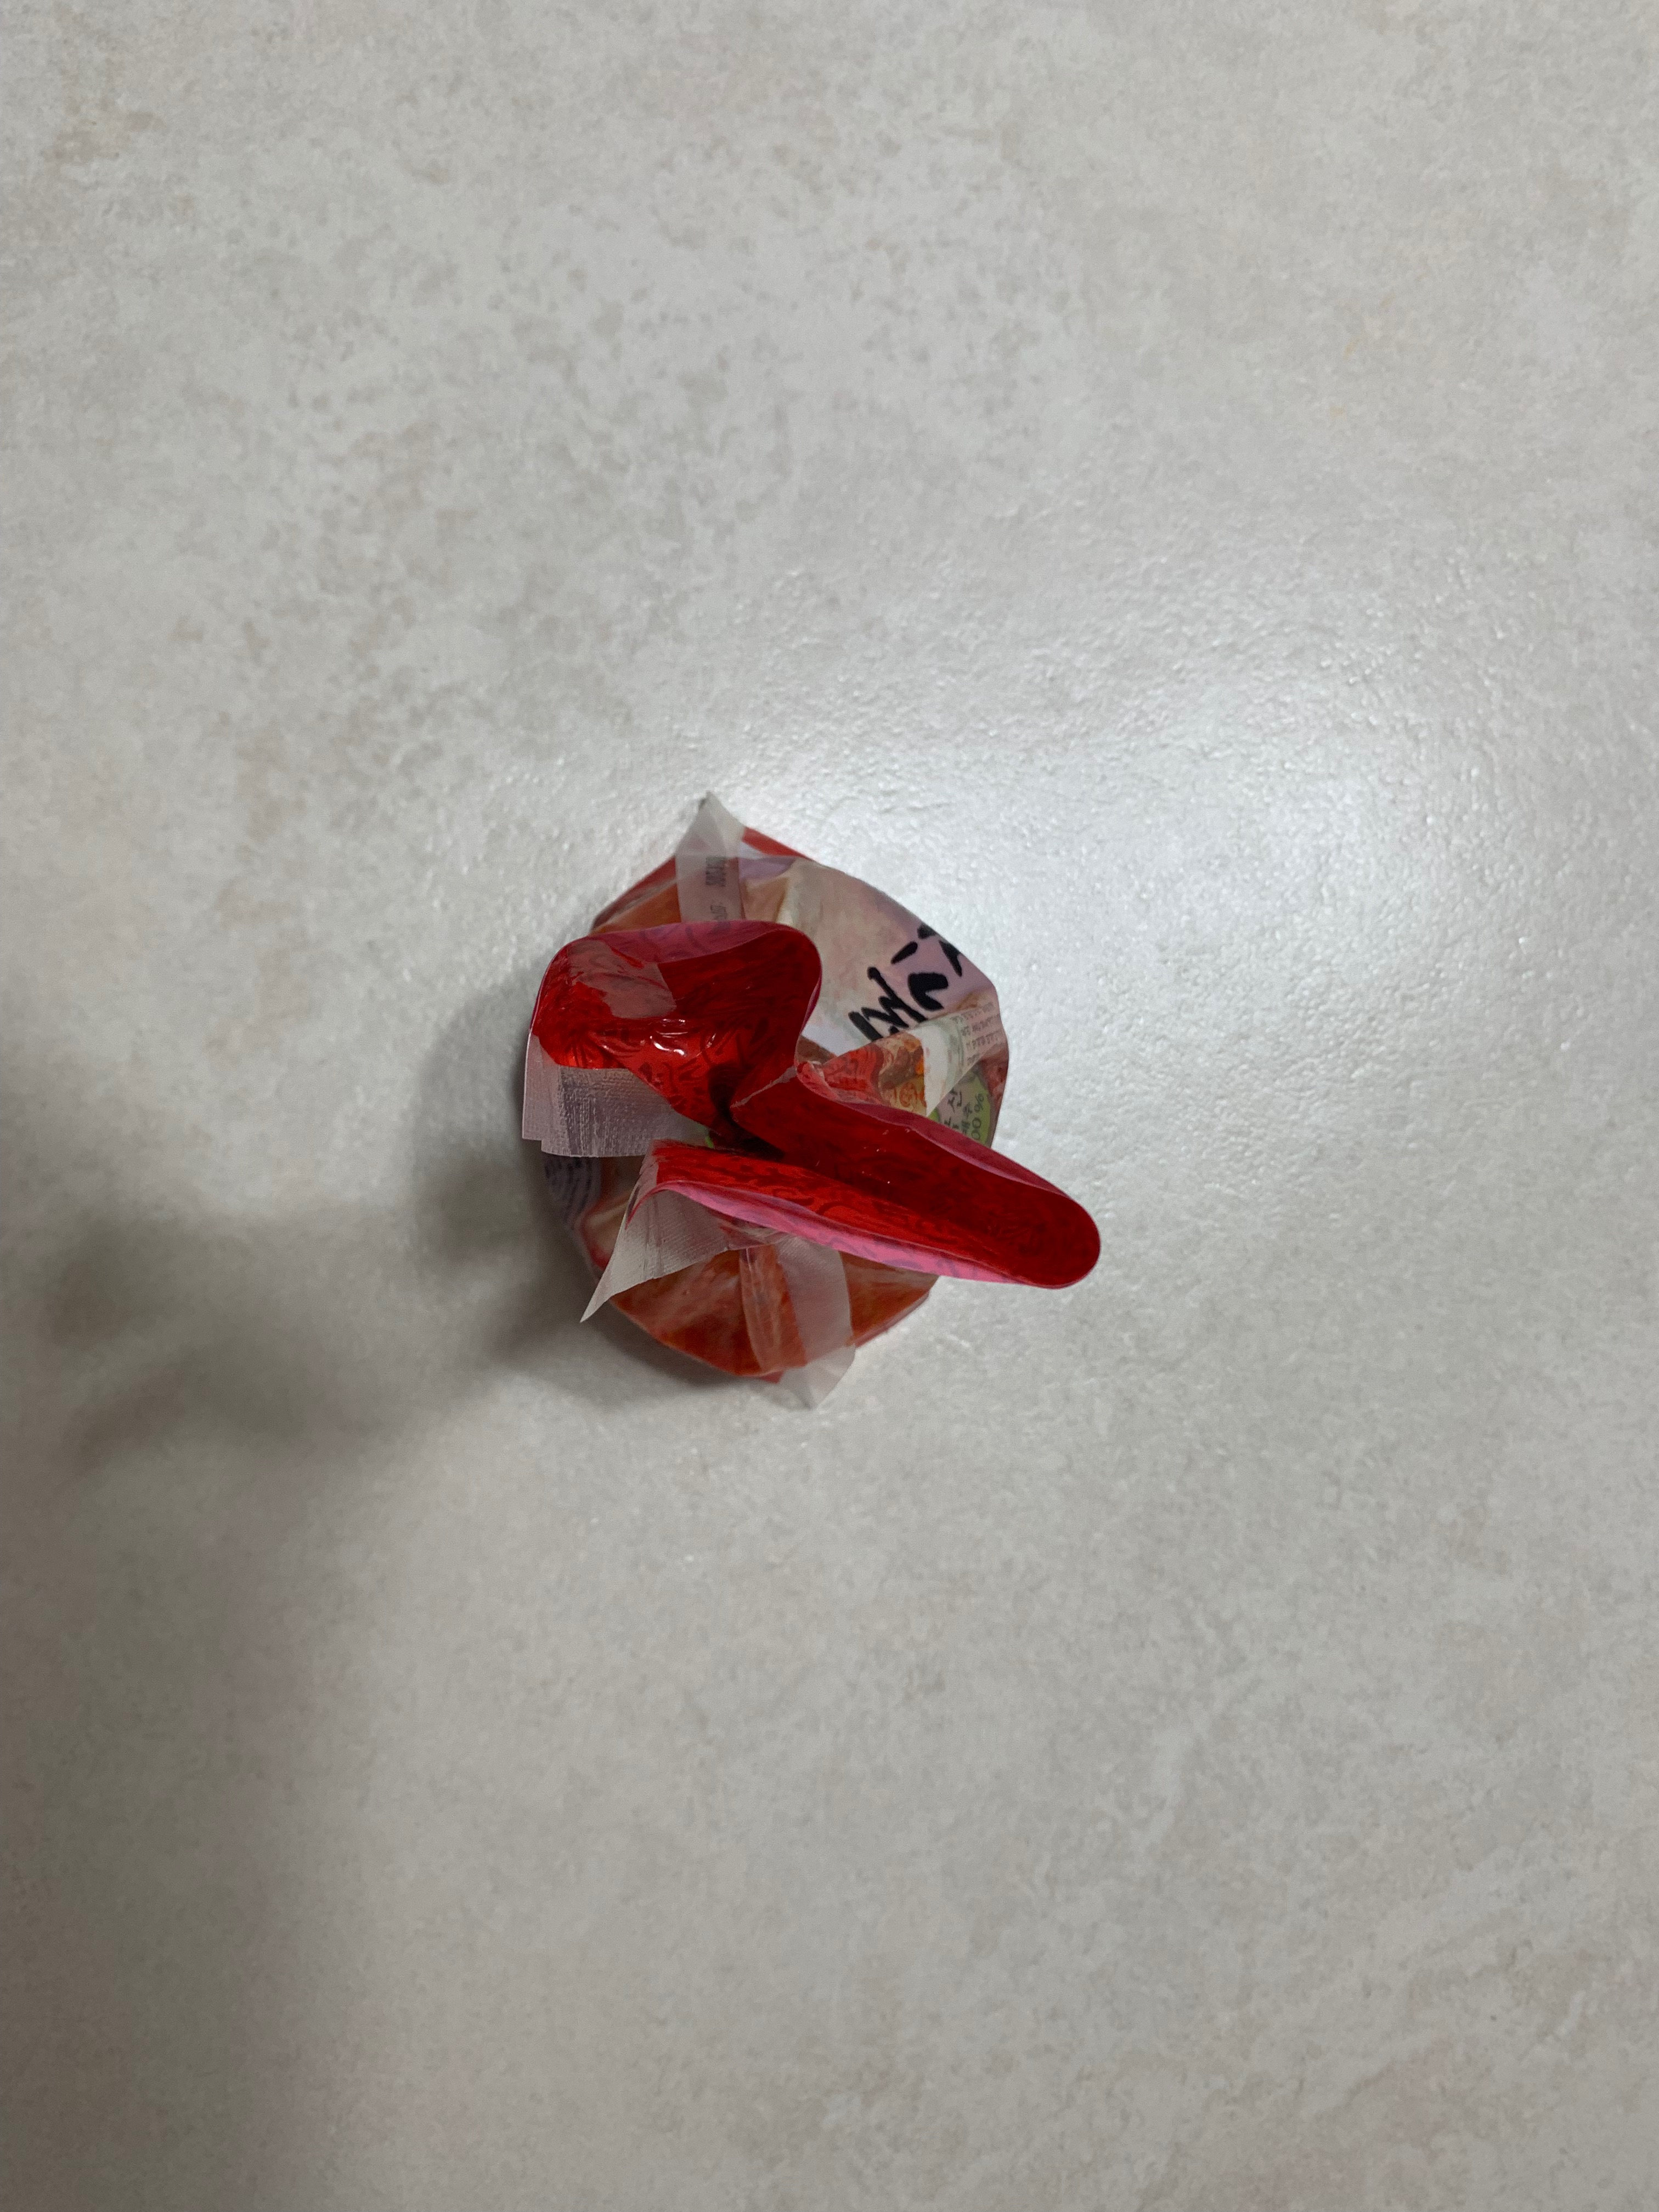kimchi: (514, 815, 1103, 1383)
